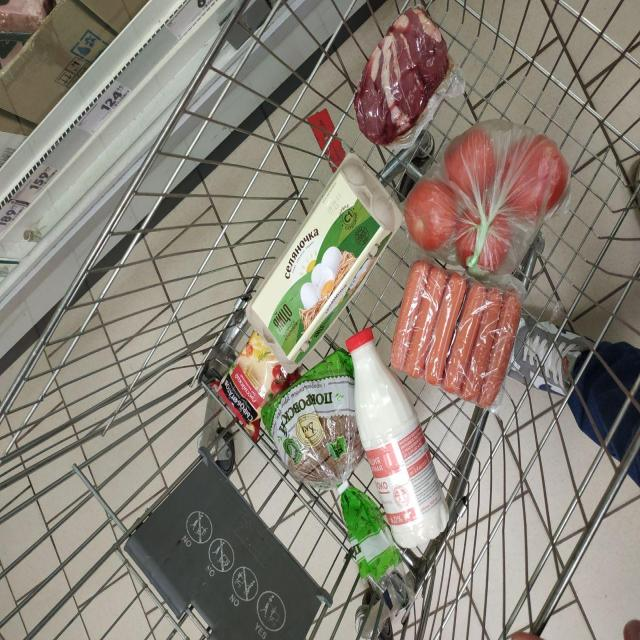Bread: (261, 350, 401, 583)
Cheese: (218, 332, 290, 438)
Eggs: (248, 153, 402, 372)
Meat: (354, 7, 449, 145)
Milk: (346, 328, 449, 547)
Sausages: (391, 260, 521, 408)
Tomatoes: (504, 133, 570, 219), (405, 178, 456, 250), (445, 127, 495, 198), (478, 213, 511, 272), (455, 210, 479, 265)
